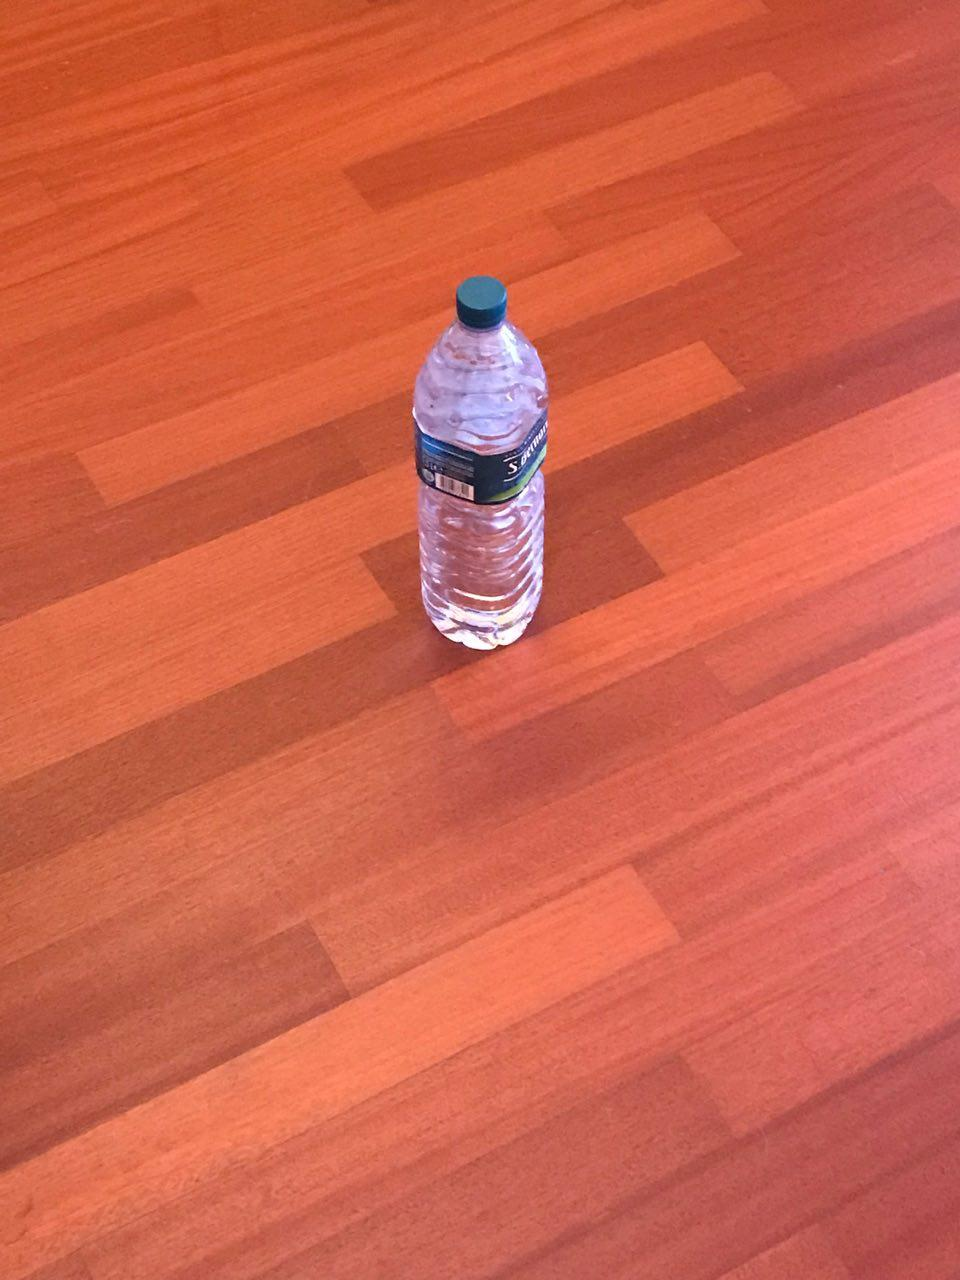san_bernardo: (410, 275, 550, 650)
